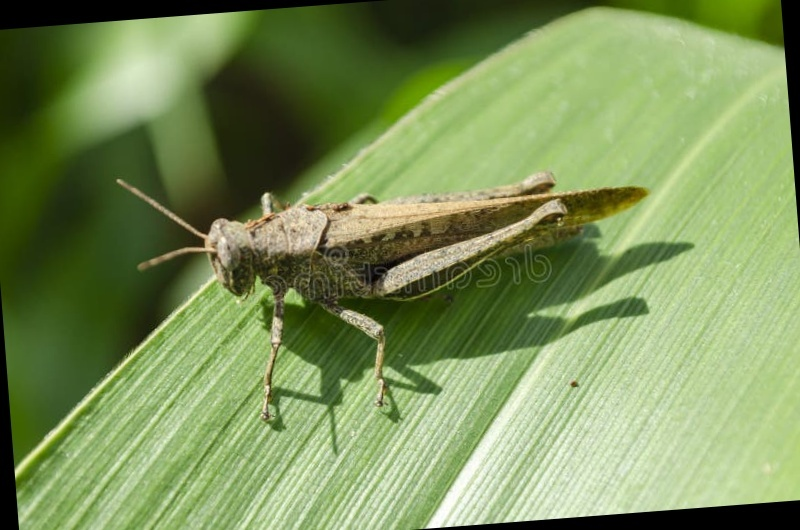Brown_hopper: (147, 153, 675, 398)
